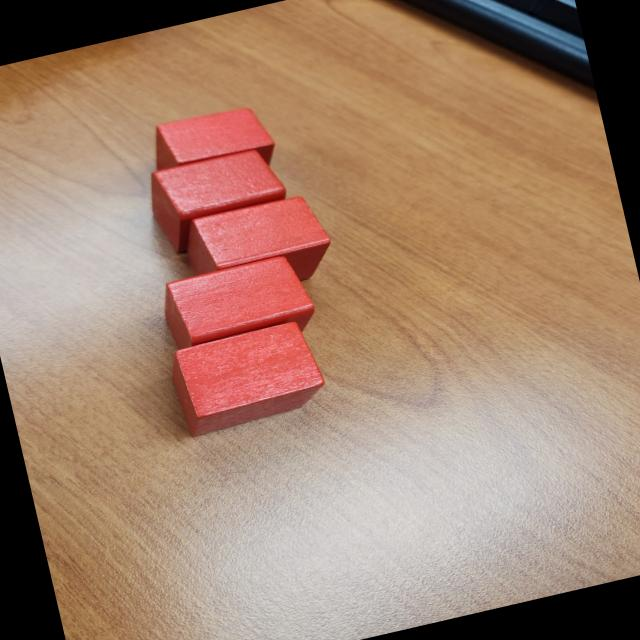red: (165, 316, 328, 439), (177, 188, 339, 306), (157, 250, 320, 365), (142, 142, 295, 258), (143, 99, 282, 192)
